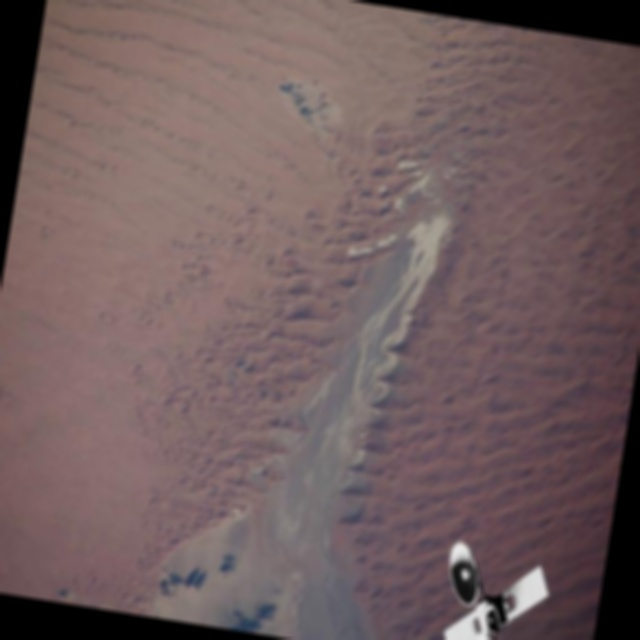satellite: (406, 523, 565, 640)
